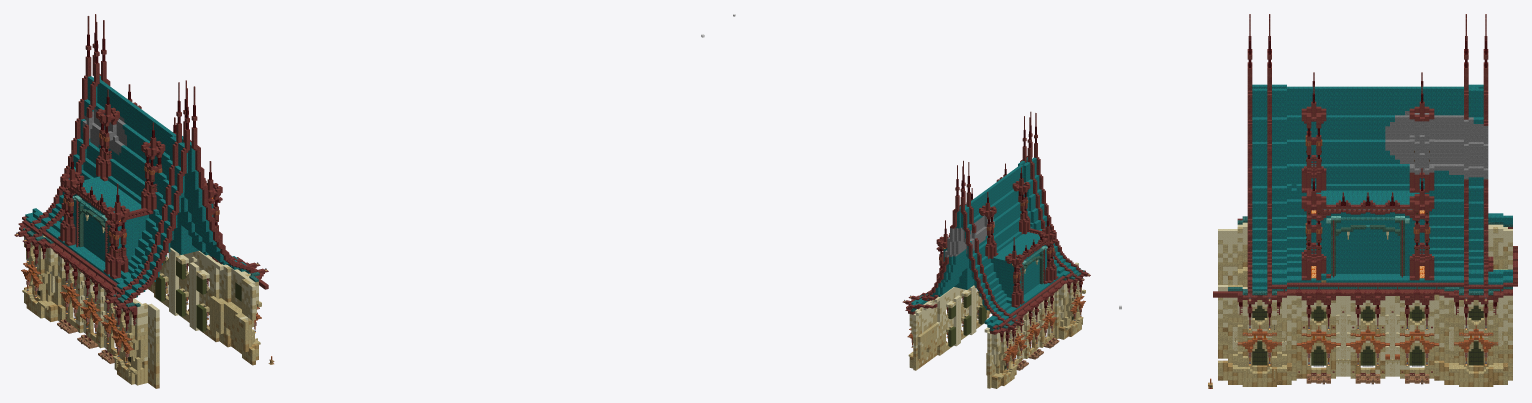
File: maroonCastle2.glb
The picture shows the model from 3 angles, left to right: view 1: azimuth 30°, elevation 25°; view 2: azimuth 150°, elevation 25°; view 3: azimuth 270°, elevation 25°; orthographic projection. The views are drawn at different scales.
Visible parts, largest first — view 1: Warped_Wart_Block, Birch_Wood_Planks, Stripped_Mangrove_Wood, Smooth_Sandstone, Mangrove_Stairs, Stripped_Birch_Log, Mangrove_Planks, Mangrove_Slab, Stripped_Oak_Wood, Red_Nether_Brick_Wall, Green_Terracotta, Mangrove_Fence (+5 smaller); view 2: Warped_Wart_Block, Birch_Wood_Planks, Smooth_Sandstone, Stripped_Mangrove_Wood, Mangrove_Stairs, Stripped_Birch_Log, Mangrove_Planks, Mangrove_Slab, Stone, Stripped_Oak_Wood, Red_Nether_Brick_Wall, Green_Terracotta (+5 smaller); view 3: Warped_Wart_Block, Birch_Wood_Planks, Smooth_Sandstone, Stripped_Mangrove_Wood, Stone, Mangrove_Stairs, Stripped_Birch_Log, Mangrove_Slab, Stripped_Oak_Wood, Green_Terracotta, Mangrove_Planks, Black_Stained_Glass_Pane (+15 smaller).
Part boxes in pixels (<box>): Warped_Wart_Block: <box>25,75,250,300</box>; Birch_Wood_Planks: <box>24,242,261,385</box>; Stripped_Mangrove_Wood: <box>23,55,268,320</box>; Smooth_Sandstone: <box>24,237,258,372</box>; Mangrove_Stairs: <box>21,74,261,311</box>; Stripped_Birch_Log: <box>24,235,258,386</box>; Mangrove_Planks: <box>64,43,218,251</box>; Mangrove_Slab: <box>18,105,264,309</box>; Stripped_Oak_Wood: <box>26,269,258,385</box>; Red_Nether_Brick_Wall: <box>26,32,218,323</box>; Green_Terracotta: <box>37,260,241,362</box>; Mangrove_Fence: <box>24,14,211,330</box>; Warped_Wart_Block: <box>911,157,1078,328</box>; Birch_Wood_Planks: <box>909,283,1085,388</box>; Smooth_Sandstone: <box>909,262,1080,366</box>; Stripped_Mangrove_Wood: <box>908,142,1082,338</box>; Mangrove_Stairs: <box>906,156,1085,331</box>; Stripped_Birch_Log: <box>909,288,1081,388</box>; Mangrove_Planks: <box>939,133,1053,287</box>; Mangrove_Slab: <box>905,182,1088,332</box>; Stone: <box>944,210,994,257</box>; Stripped_Oak_Wood: <box>912,293,1081,387</box>; Red_Nether_Brick_Wall: <box>939,125,1081,340</box>; Green_Terracotta: <box>948,293,1073,369</box>; Warped_Wart_Block: <box>1252,84,1512,290</box>; Birch_Wood_Planks: <box>1218,227,1512,384</box>; Smooth_Sandstone: <box>1218,222,1512,376</box>; Stripped_Mangrove_Wood: <box>1213,62,1512,313</box>; Stone: <box>1385,111,1488,179</box>; Mangrove_Stairs: <box>1237,90,1517,304</box>; Stripped_Birch_Log: <box>1218,244,1512,386</box>; Mangrove_Slab: <box>1242,117,1517,300</box>; Stripped_Oak_Wood: <box>1218,246,1512,386</box>; Green_Terracotta: <box>1252,305,1483,365</box>; Mangrove_Planks: <box>1247,49,1488,218</box>; Black_Stained_Glass_Pane: <box>1252,306,1483,366</box>.
Size of the model in its own units: 150 by 75 by 81.14.
Materials: 35 (35 with a texture image).
